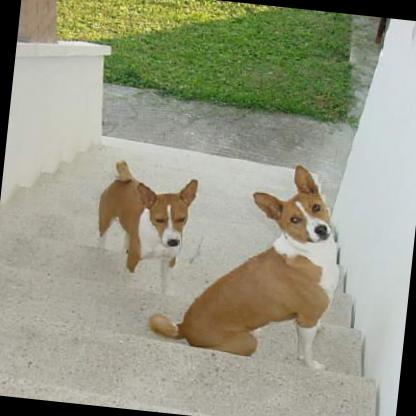basenji: (139, 146, 352, 375), (84, 153, 199, 296)
